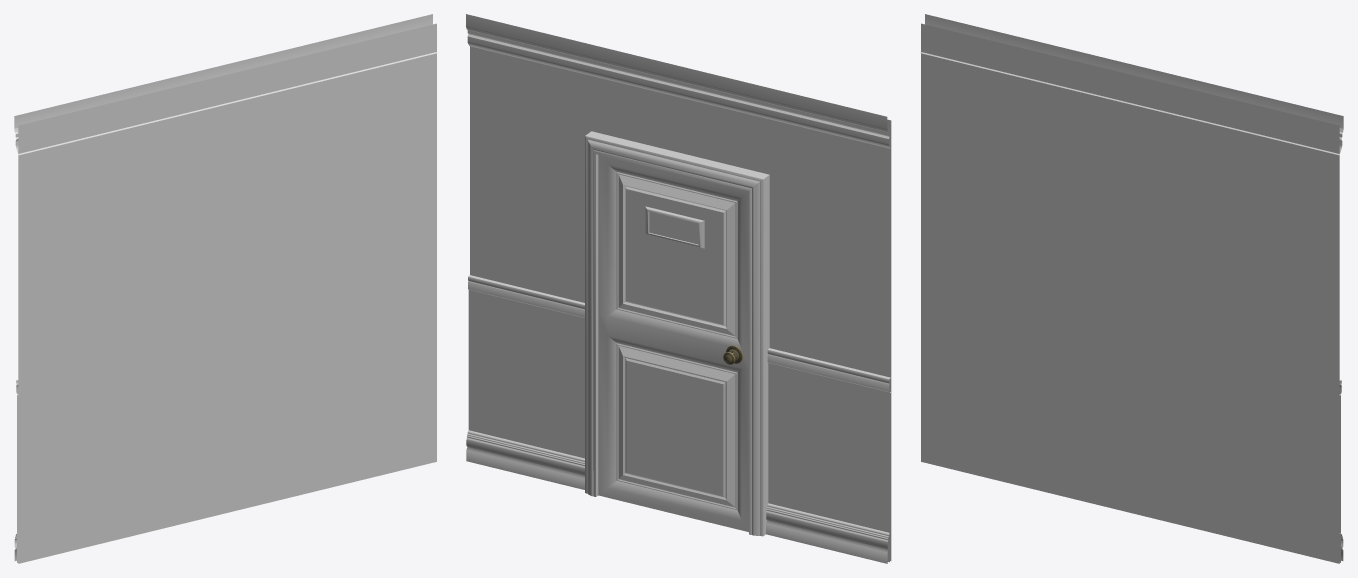
File: door.fbx
The picture shows the model from 3 angles, left to right: view 1: azimuth 30°, elevation 25°; view 2: azimuth 150°, elevation 25°; view 3: azimuth 330°, elevation 25°; orthographic projection.
Parts seen in each view (by area): view 1: Cube.019, Plane.004; view 2: Cube.019, Cube.024, Cube.022, Cube.023, Plane.004, Cube.020, Cube.021, Cube.025; view 3: Cube.019, Plane.004.
Boxes of the visible parts, left/top/right/bottom form: Cube.019: left=18, top=23, right=436, bottom=563; Plane.004: left=14, top=14, right=437, bottom=155; Cube.019: left=470, top=46, right=891, bottom=560; Cube.024: left=598, top=155, right=748, bottom=531; Cube.022: left=468, top=290, right=889, bottom=562; Cube.023: left=585, top=131, right=769, bottom=536; Plane.004: left=466, top=14, right=890, bottom=148; Cube.020: left=466, top=430, right=889, bottom=563; Cube.021: left=468, top=275, right=890, bottom=392; Cube.025: left=645, top=206, right=704, bottom=248; Cube.019: left=921, top=23, right=1339, bottom=563; Plane.004: left=920, top=14, right=1343, bottom=155.
Size of the model in its own units: 300 by 305 by 16.42.
